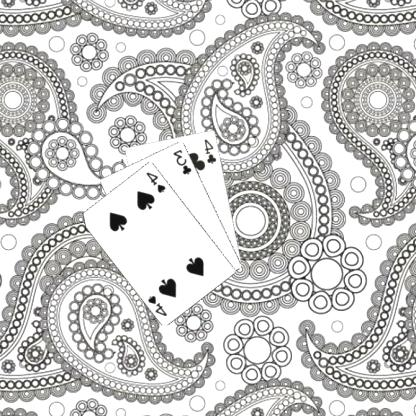3C: (172, 146, 195, 176)
4C: (204, 136, 220, 165)
4S: (145, 169, 169, 194), (147, 292, 170, 317)
